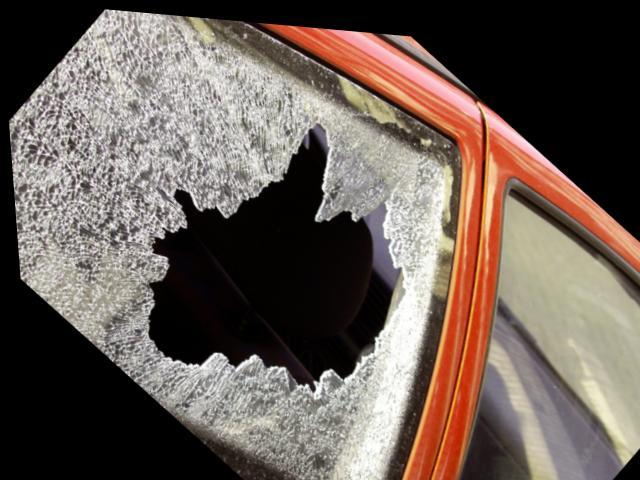glass shatter: (7, 7, 458, 480)
